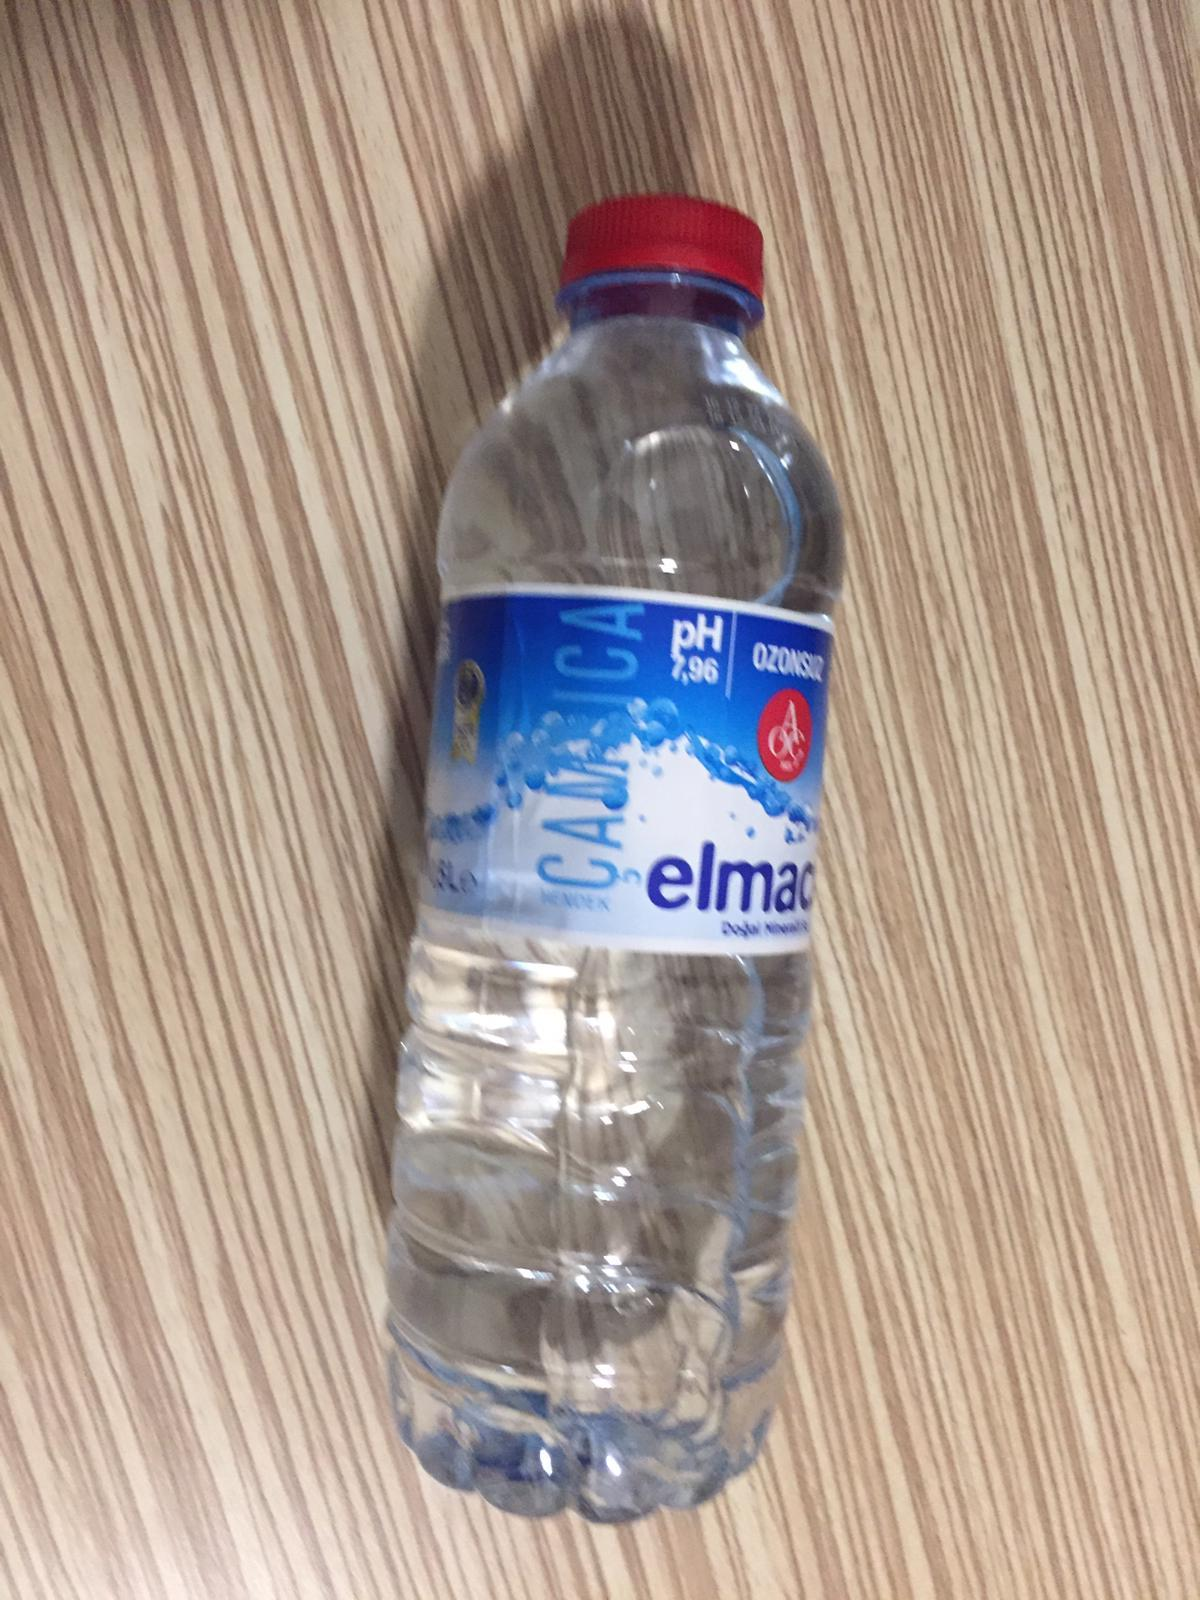bottle: (395, 188, 850, 1523)
